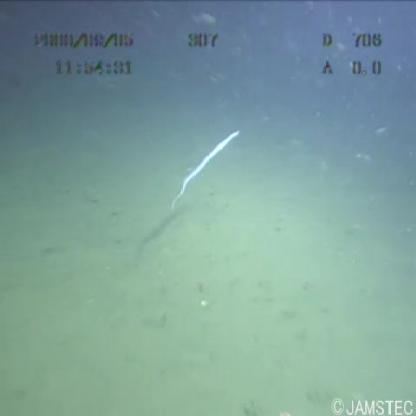Bio: (163, 121, 243, 222)
